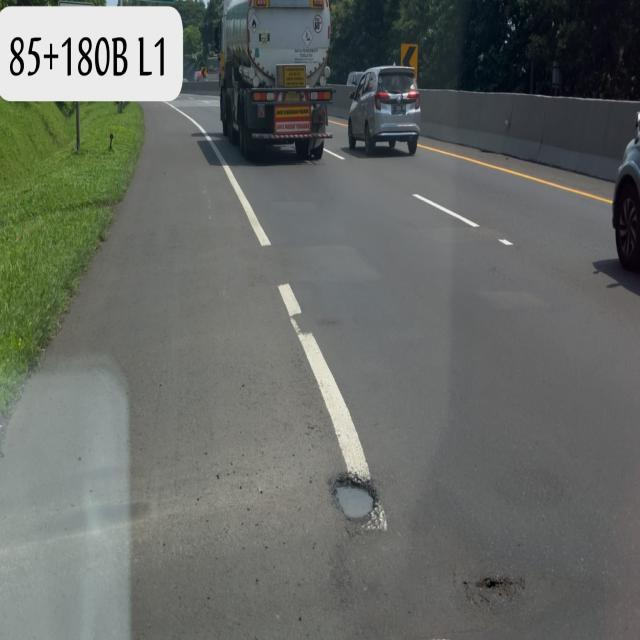Buraco: (328, 472, 382, 526), (470, 573, 530, 604)
